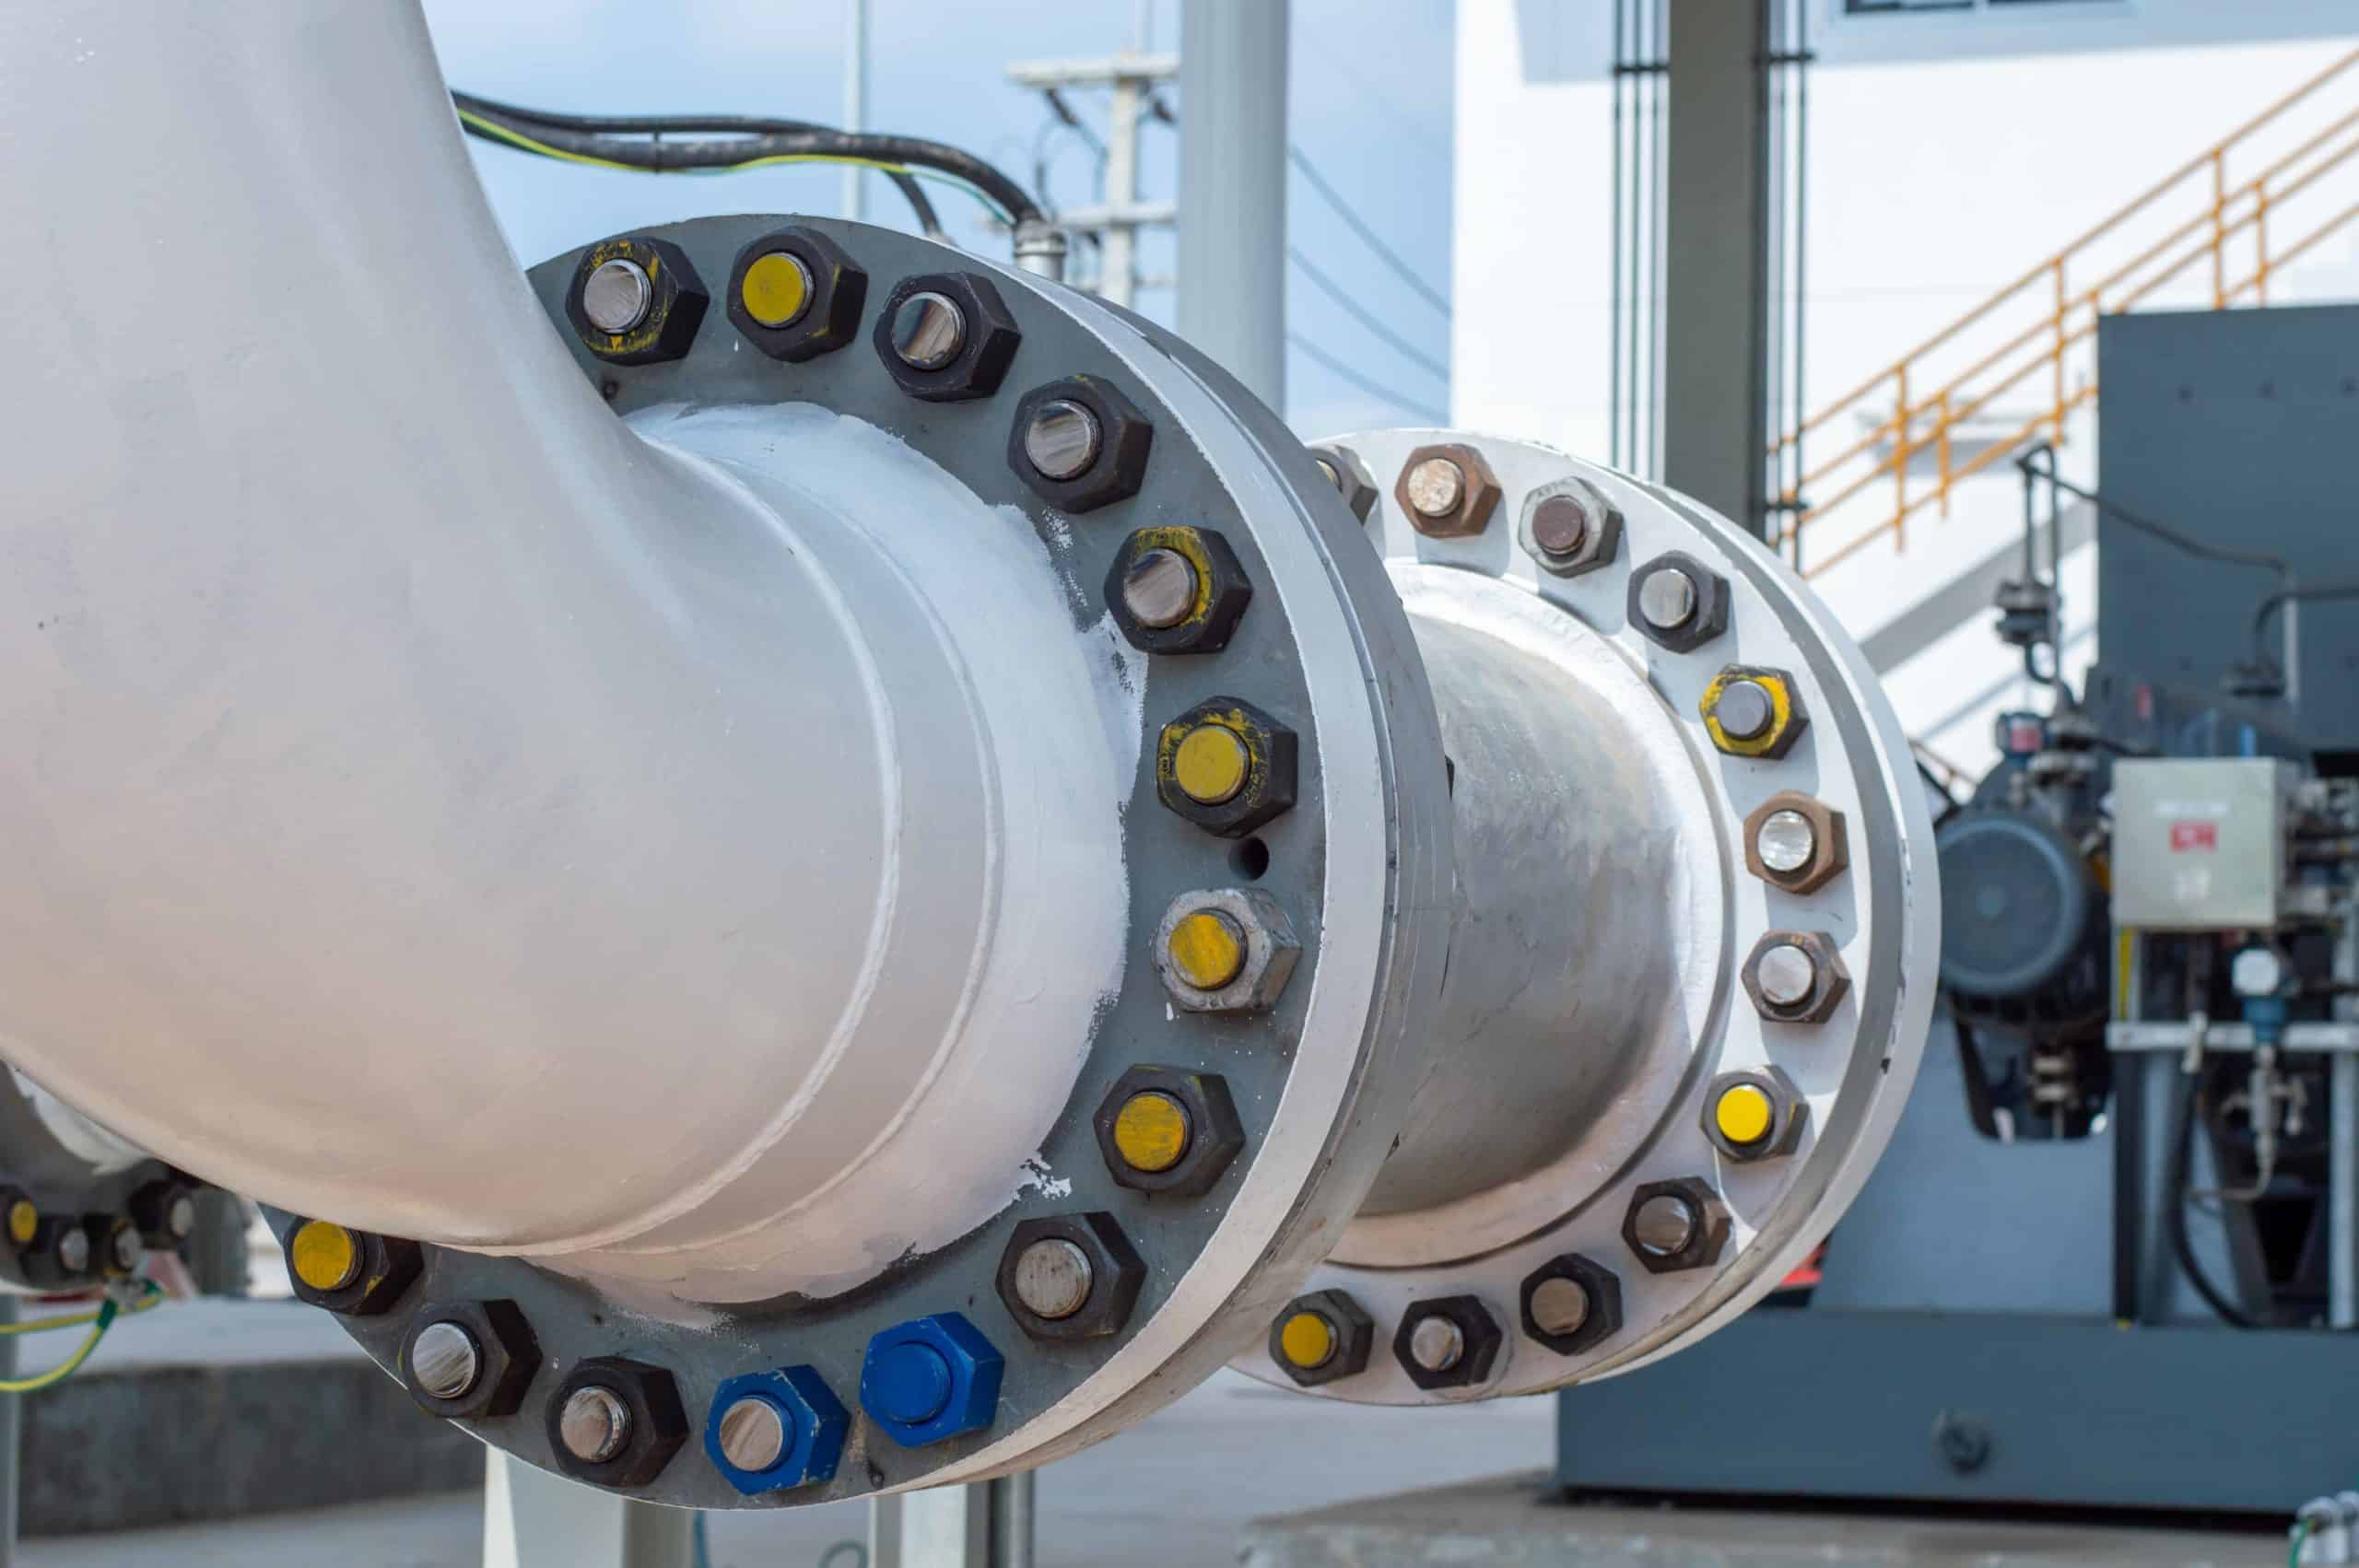bolt_b: (1151, 689, 1300, 842), (1090, 1059, 1246, 1204), (994, 1207, 1150, 1349), (850, 1311, 1006, 1452), (702, 1356, 854, 1500), (1146, 884, 1304, 1020), (1097, 523, 1257, 658), (1008, 371, 1155, 516), (273, 1188, 427, 1319), (726, 226, 870, 366), (873, 268, 1020, 404), (544, 1354, 691, 1491), (392, 1291, 543, 1423), (567, 236, 712, 369), (1697, 1057, 1811, 1167), (1393, 1288, 1505, 1398), (1738, 787, 1852, 896), (1696, 660, 1813, 765), (1267, 1283, 1377, 1393), (1622, 548, 1732, 656), (1736, 927, 1853, 1029), (1516, 472, 1624, 581), (1389, 439, 1505, 541), (1516, 1251, 1624, 1358), (1621, 1172, 1732, 1274)
vague: (26, 1209, 94, 1297), (128, 1174, 198, 1253), (79, 1204, 145, 1284)
